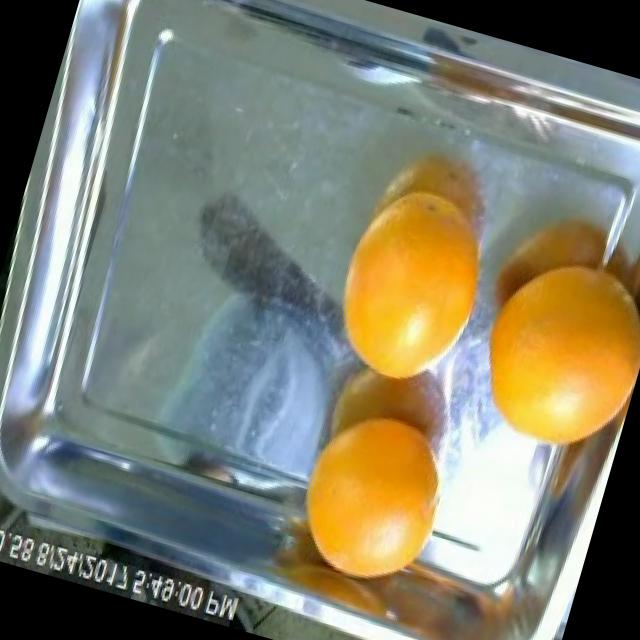Fruit: (304, 172, 502, 408)
